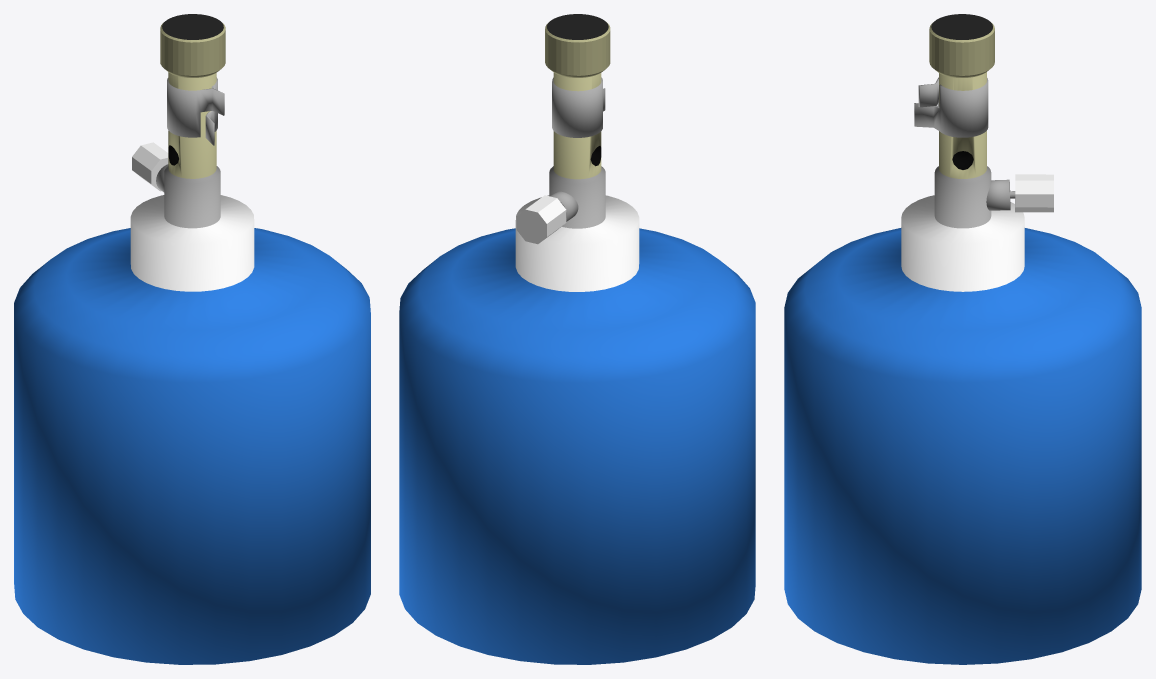
File: kaasupoltin(2).glb
3 views of the same model, side by side, from view 1: azimuth 30°, elevation 25°; view 2: azimuth 150°, elevation 25°; view 3: azimuth 270°, elevation 25° (orthographic).
Parts seen in each view (by area): view 1: Poltin, Aukon suljin, Hana; view 2: Poltin, Aukon suljin, Hana; view 3: Poltin, Aukon suljin, Hana.
Boxes of the visible parts, x1,y1,x2,y2 form: Poltin: (14,14,370,664); Aukon suljin: (167,77,224,145); Hana: (132,142,168,191); Poltin: (399,14,755,664); Aukon suljin: (552,77,605,137); Hana: (516,195,566,244); Poltin: (784,14,1141,664); Aukon suljin: (914,77,988,137); Hana: (1015,174,1053,212).
Bounding box in the file's own units: 2 × 3.47 × 2.
